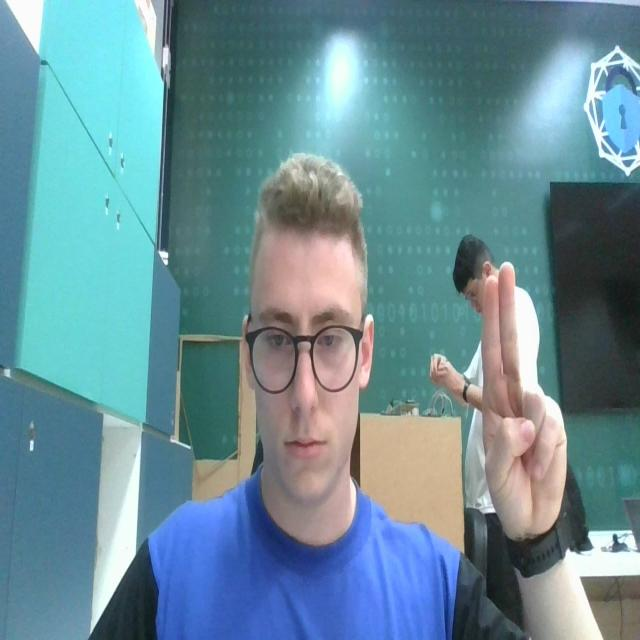U: (478, 256, 572, 539)
